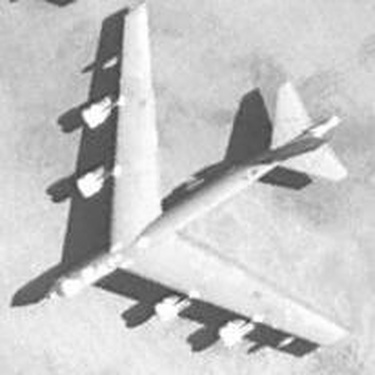airplane: (14, 1, 357, 365)
